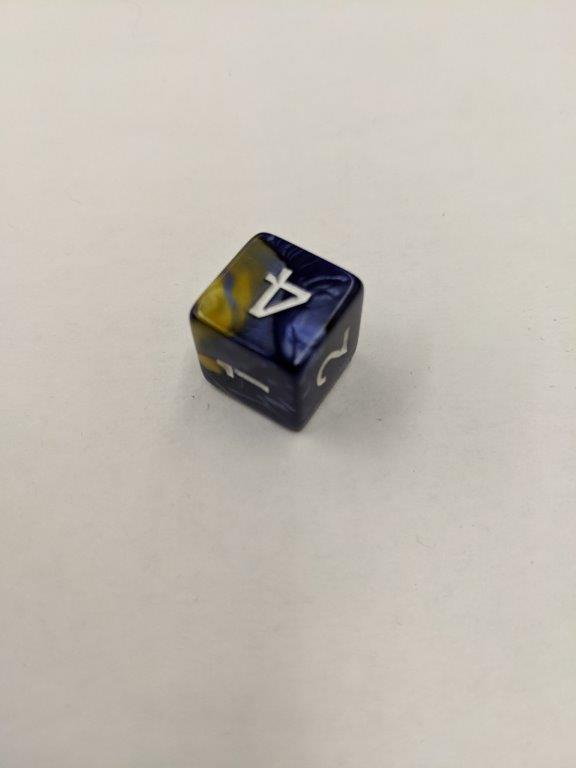d6-4: (187, 231, 365, 433)
